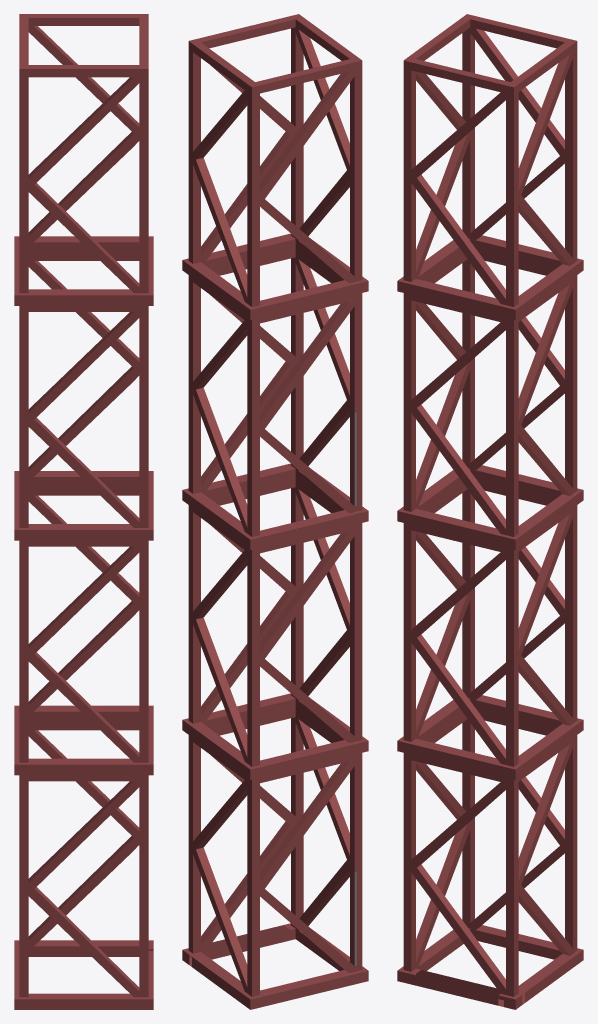
File: Scaffolding9.fbx
The picture shows the model from 3 angles, left to right: view 1: azimuth 30°, elevation 25°; view 2: azimuth 150°, elevation 25°; view 3: azimuth 270°, elevation 25°; orthographic projection. The views are drawn at different scales.
Visible parts, largest first — view 1: Plane.003; view 2: Plane.003; view 3: Plane.003.
Part boxes in pixels (x1,y1,x2,y2): Plane.003: [14, 14, 153, 1009]; Plane.003: [182, 14, 368, 1009]; Plane.003: [397, 14, 583, 1009].
Size of the model in its own units: 384 by 2092 by 384.
